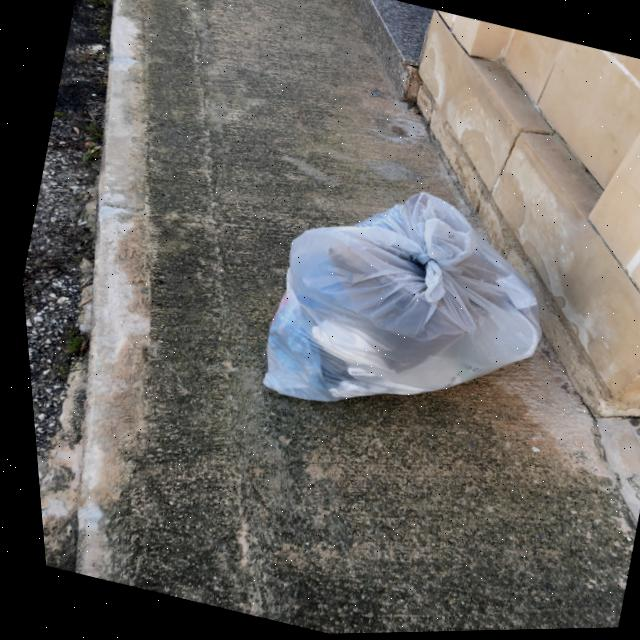Recycled Waste -Grey or Green Bag-: (240, 163, 571, 459)
